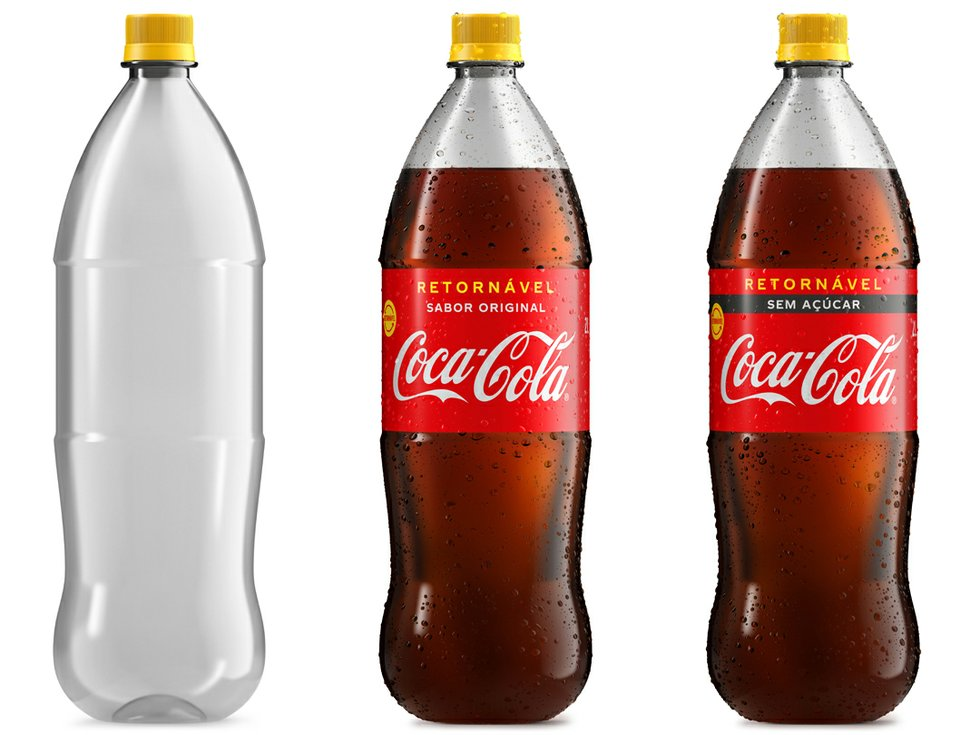coca_cola_bottle: (378, 2, 602, 727), (706, 5, 920, 726)
